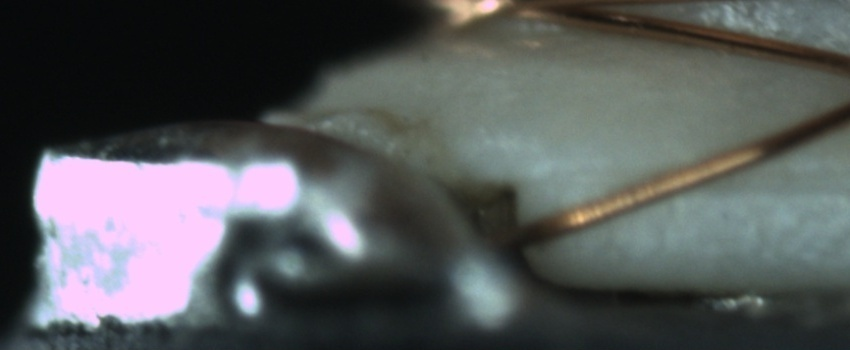DL: (618, 142, 849, 216)
